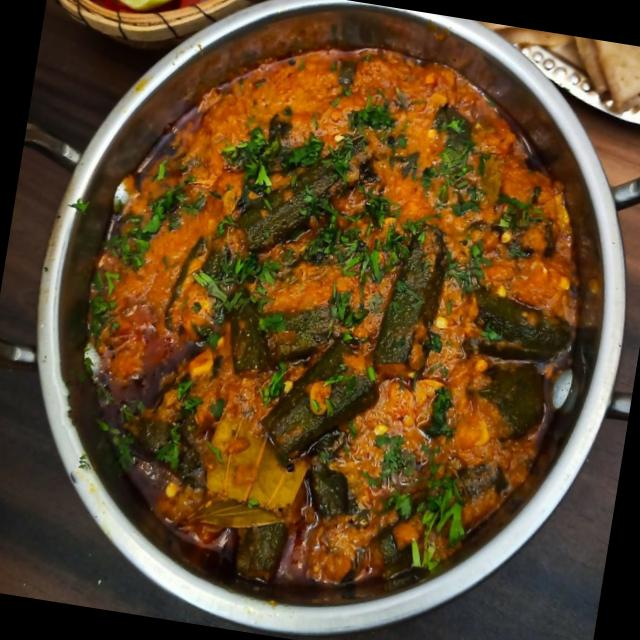BhindiMasala: (51, 12, 612, 626)
